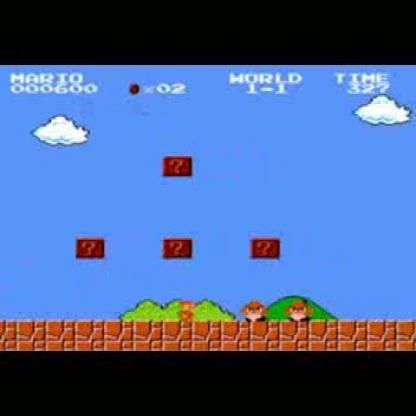Goomba: (284, 298, 314, 324), (241, 296, 270, 322)
